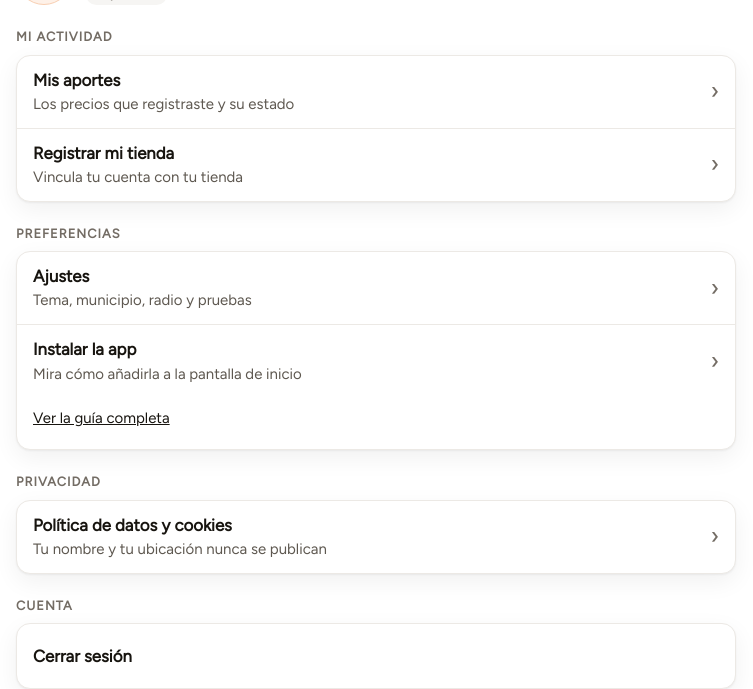
Test case: pestaña Yo › cerrar sesión la termina en el servidor y vuelve a invitar a entrar
The image size is (753, 689).
(page scrolled)
Click the button "Cerrar sesión": (82, 656) x1=17 y1=624 x2=735 y2=688
(page scrolled)
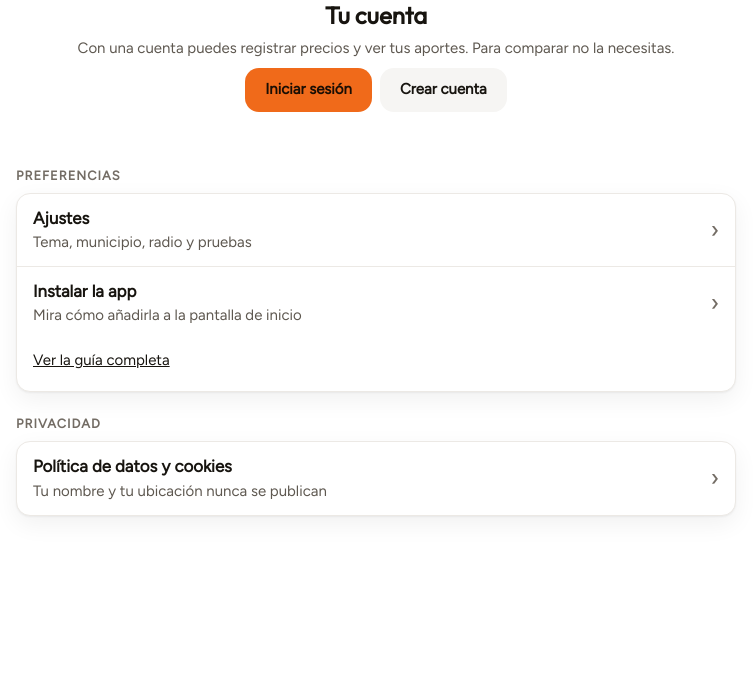
expect the link "Iniciar sesión" is shown: met, box x1=245 y1=68 x2=372 y2=112
